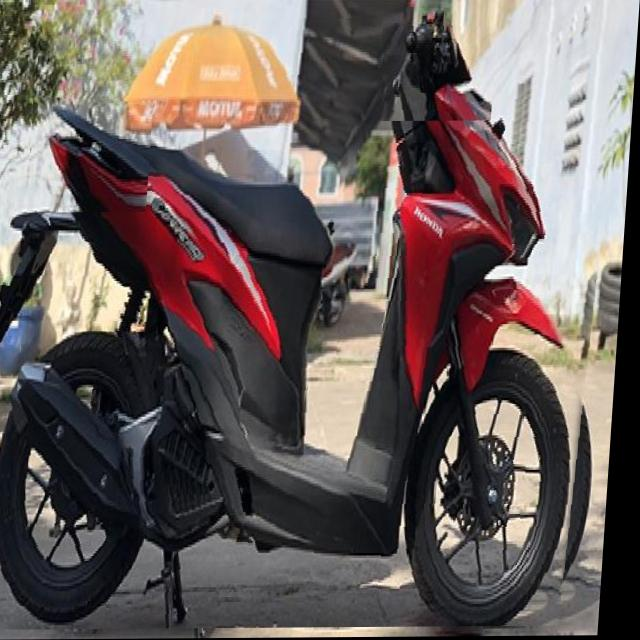All: (0, 12, 627, 630)
Head: (378, 16, 498, 122)
Tail: (29, 96, 155, 213)
